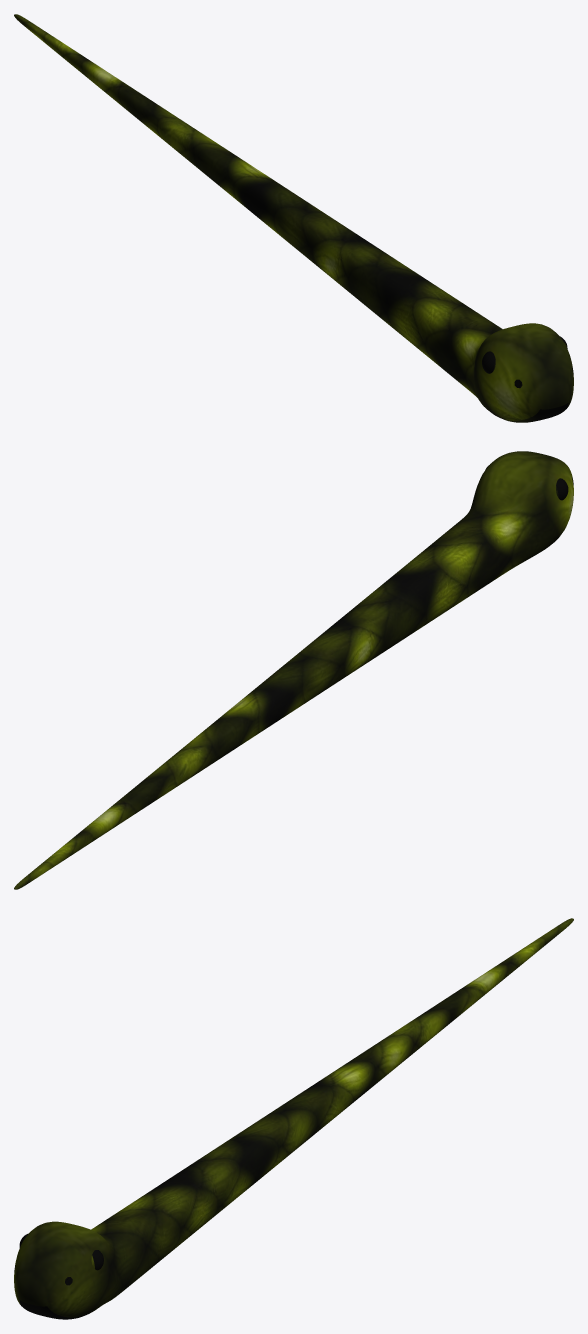
File: snake01.fbx
The picture shows the model from 3 angles, top to bottom: view 1: azimuth 30°, elevation 25°; view 2: azimuth 150°, elevation 25°; view 3: azimuth 330°, elevation 25°; orthographic projection.
Visible parts, largest first — view 1: Snake; view 2: Snake; view 3: Snake.
Boxes of the visible parts, x1,y1,x2,y2 form: Snake: [14, 14, 573, 422]; Snake: [14, 451, 573, 889]; Snake: [14, 918, 573, 1319].
Bounding box in the file's own units: 74.7 × 78.73 × 861.
